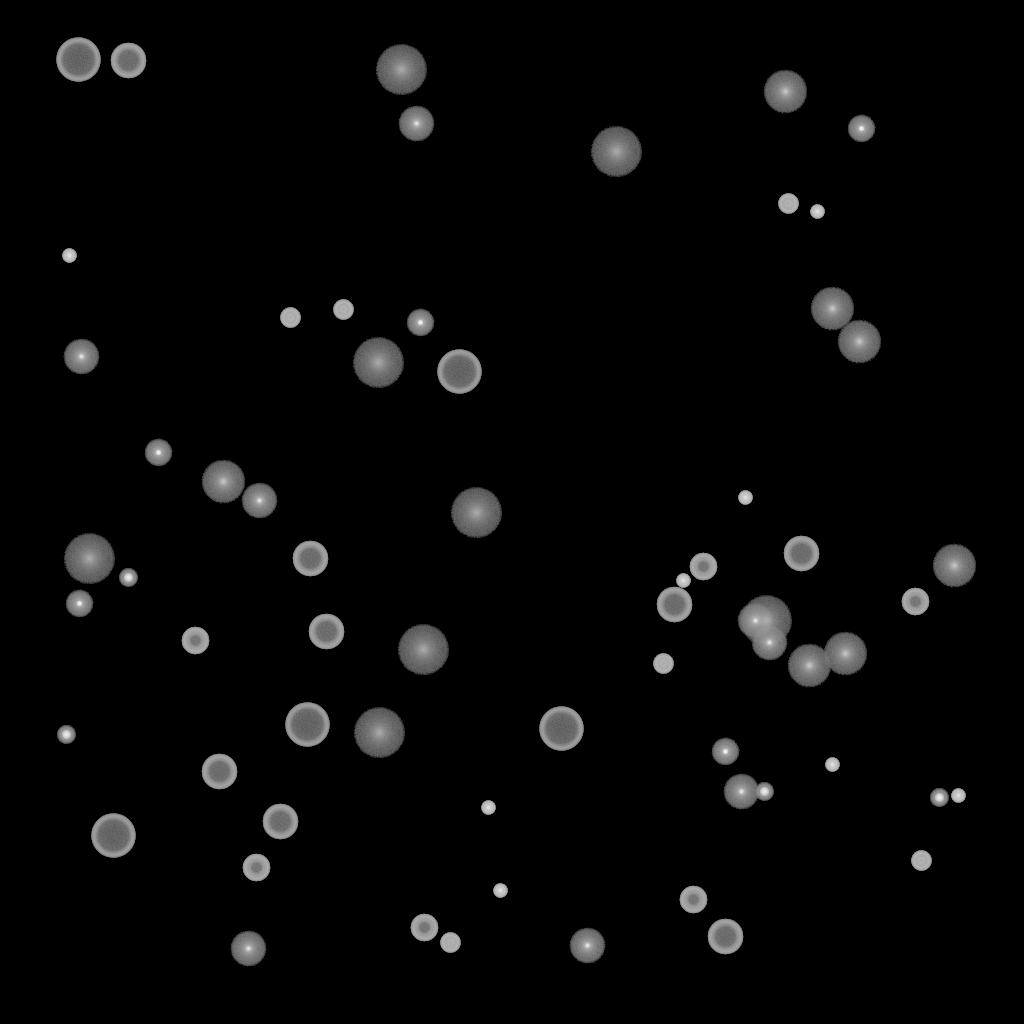depth:-10: (711, 738, 739, 766), (847, 115, 875, 143), (144, 439, 172, 467), (406, 309, 434, 337), (65, 590, 93, 618)
depth:-20: (119, 569, 137, 587), (57, 726, 75, 744), (930, 789, 948, 807), (755, 783, 773, 801)
depth:-30: (62, 249, 76, 263), (493, 884, 507, 898), (951, 789, 965, 803), (810, 205, 824, 219), (481, 801, 495, 815), (738, 491, 752, 505), (676, 574, 690, 588), (825, 758, 839, 772)
depth:-40: (911, 851, 931, 871), (333, 300, 353, 320), (440, 933, 460, 953), (778, 194, 798, 214), (280, 308, 300, 328), (653, 654, 673, 674)
depth:-50: (679, 886, 707, 914), (689, 553, 717, 581), (901, 588, 929, 616), (181, 627, 209, 655), (410, 914, 438, 942), (242, 854, 270, 882)
depth:-60: (110, 43, 146, 79), (707, 919, 743, 955), (656, 587, 692, 623), (308, 614, 344, 650), (783, 536, 819, 572), (262, 804, 298, 840), (201, 754, 237, 790), (292, 541, 328, 577)
depth:-70: (56, 38, 100, 82), (91, 814, 135, 858), (285, 703, 329, 747), (539, 707, 583, 751), (437, 350, 481, 394)
depth:0: (63, 339, 99, 375), (723, 774, 759, 810), (398, 106, 434, 142), (230, 931, 266, 967), (737, 603, 773, 639), (241, 483, 277, 519), (751, 625, 787, 661), (569, 928, 605, 964)
depth:10: (837, 320, 881, 364), (201, 460, 245, 504), (823, 632, 867, 676), (787, 644, 831, 688), (932, 544, 976, 588), (763, 70, 807, 114), (810, 287, 854, 331)
depth:20: (740, 596, 792, 646), (450, 488, 502, 538), (590, 127, 642, 177), (352, 338, 404, 388), (375, 45, 427, 95), (353, 708, 405, 758), (63, 534, 115, 584), (397, 625, 449, 675)
